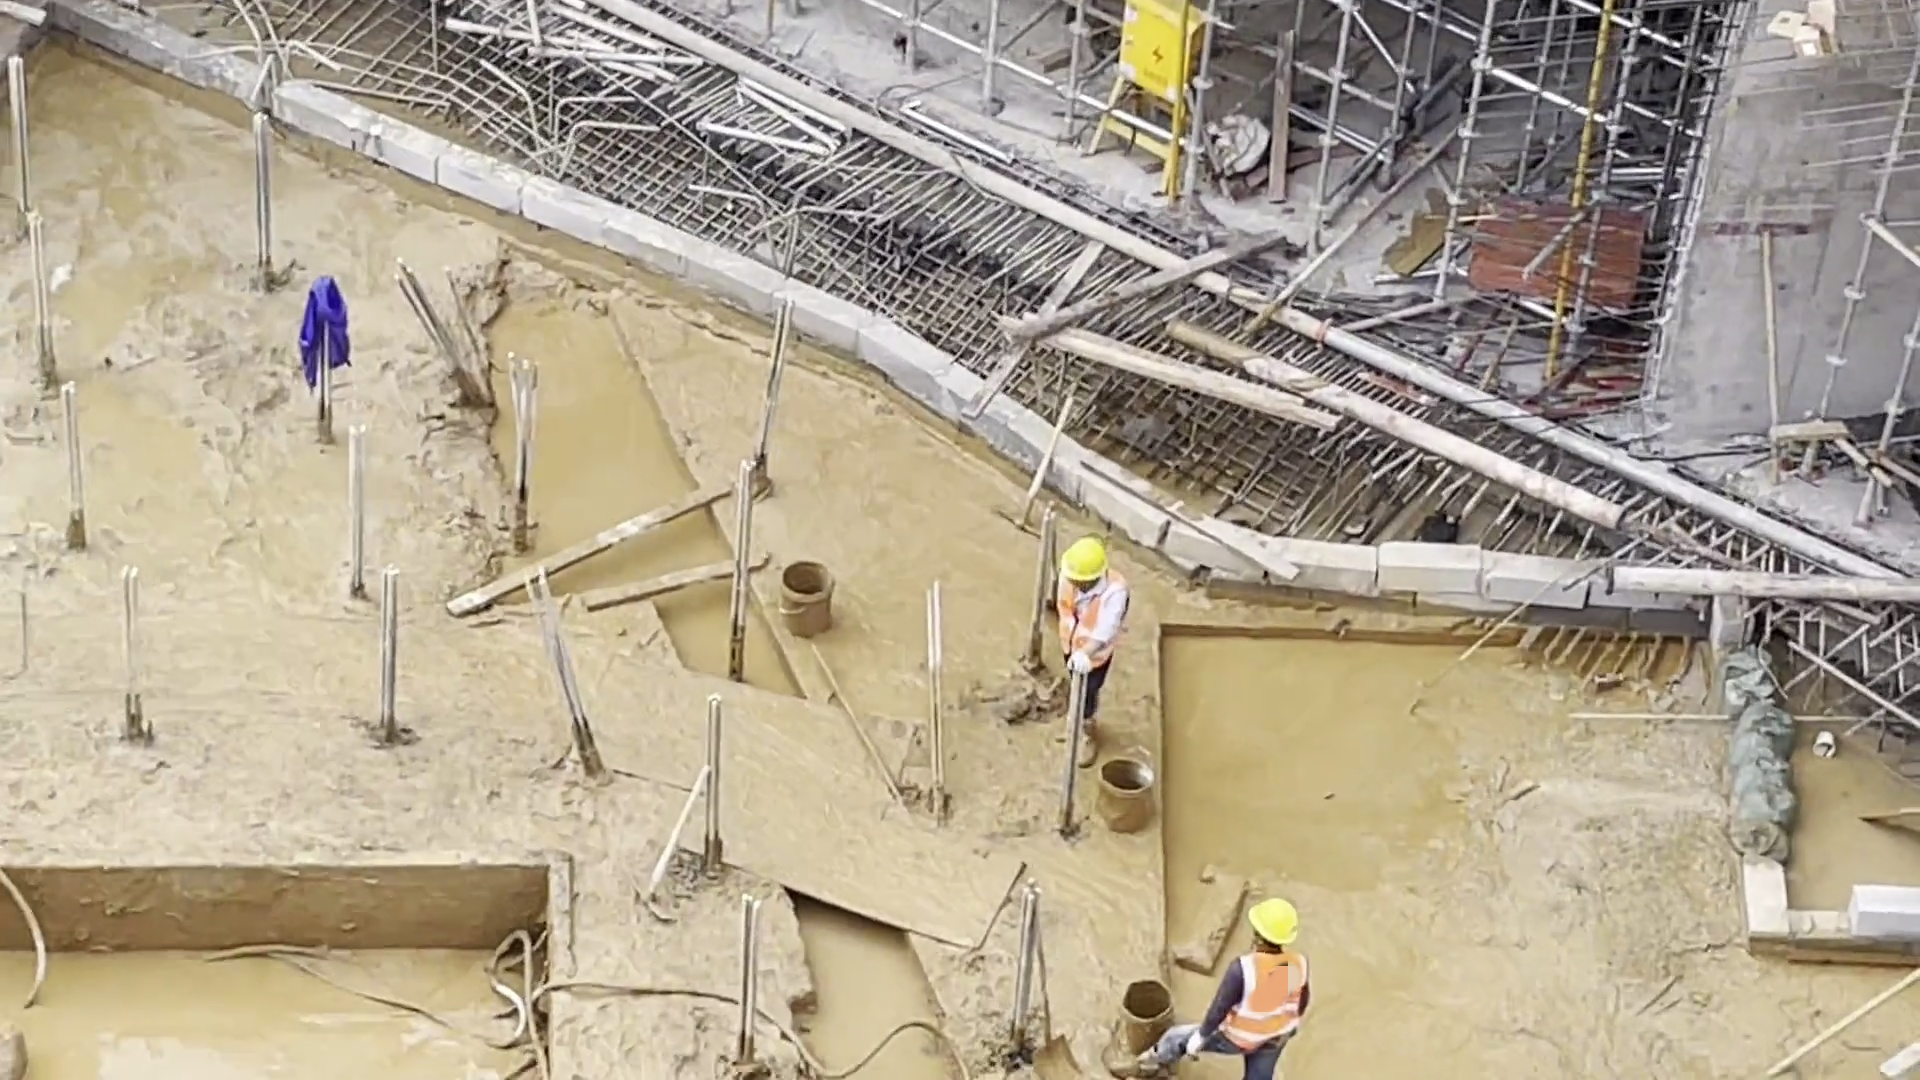ebox: (1115, 1, 1214, 101)
helmet: (1055, 539, 1110, 591), (1251, 895, 1303, 942)
person: (1111, 901, 1318, 1080), (1053, 535, 1127, 743)
vest: (1226, 948, 1308, 1053), (1056, 584, 1132, 675)
